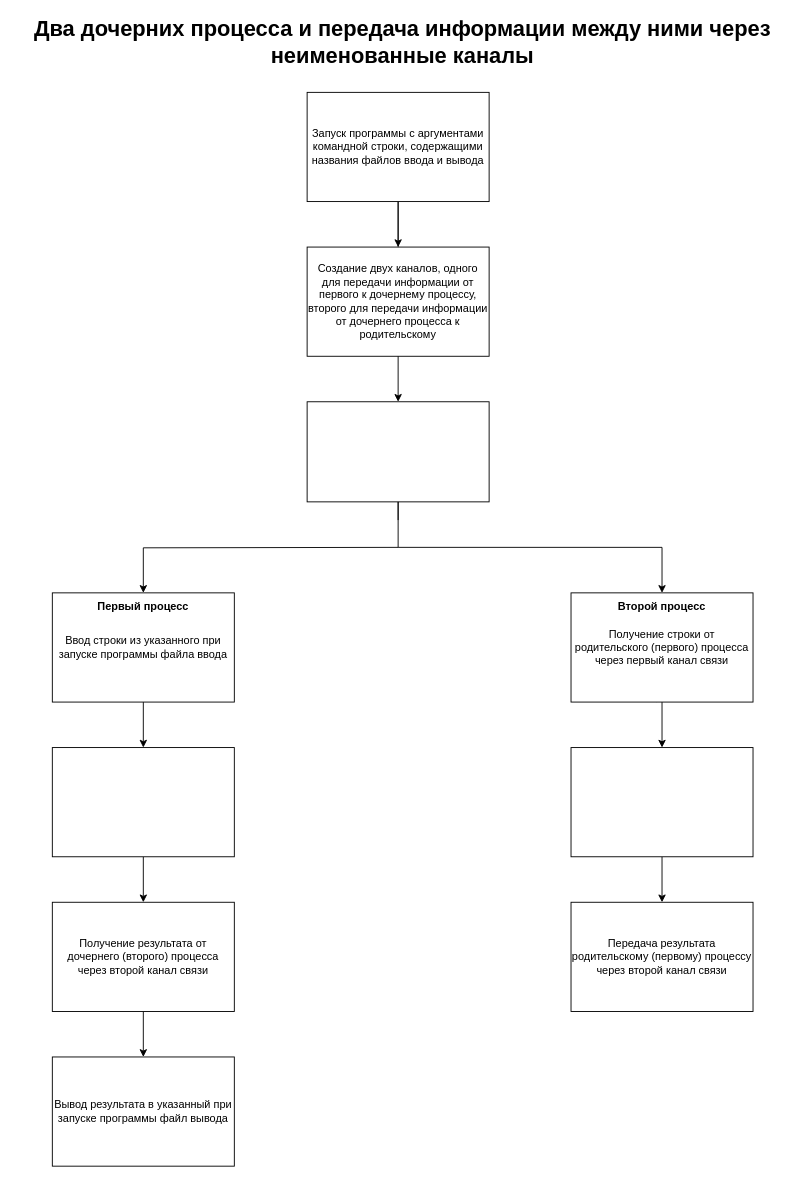
This 804x1182 diagram has some shape labels left out. The centre of each missing label's shape, as x and y in pixels:
Обработка строки и получение результата: является она палиндромом или нет: (661,802)
Передача строки дочернему (второму) процессу через первый канал связи: (142,802)
Создание дочернего процесса: (397,451)
